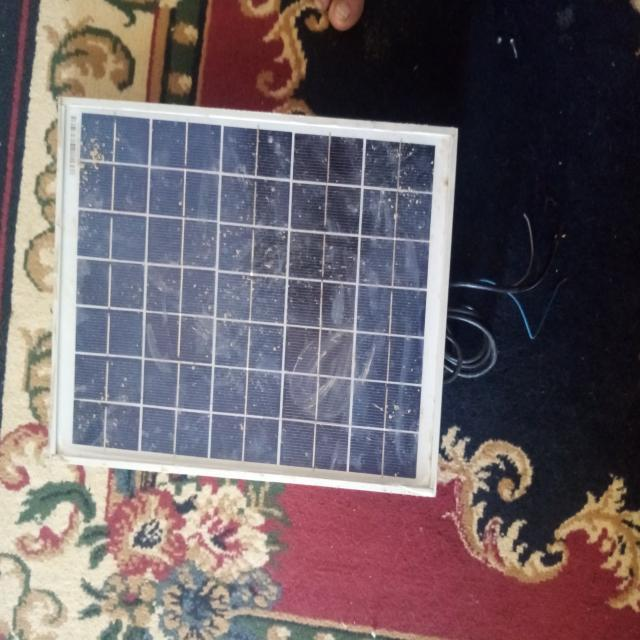faulty: (52, 101, 457, 492)
